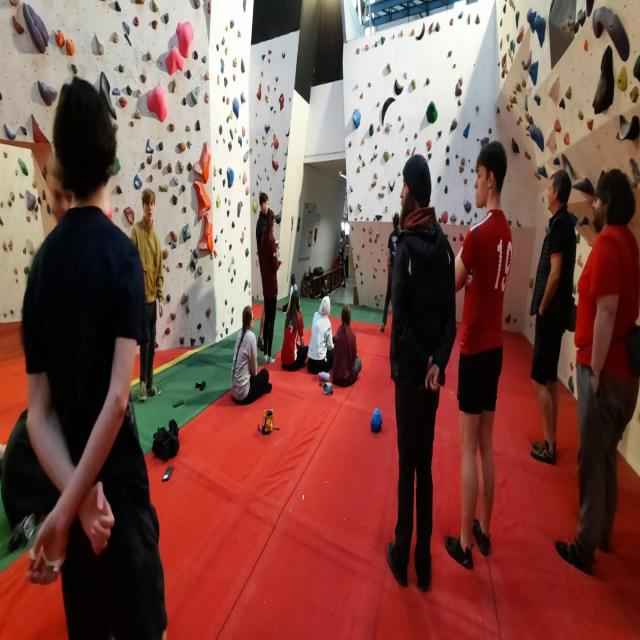Jug: (529, 120, 544, 153), (535, 13, 546, 50), (528, 59, 541, 88), (527, 7, 538, 33)
Sloper: (593, 7, 631, 65), (590, 44, 617, 118), (20, 1, 50, 59), (174, 18, 197, 70), (191, 177, 212, 228), (144, 83, 168, 125), (168, 24, 186, 78), (193, 139, 212, 185), (198, 214, 214, 259), (617, 111, 640, 142), (378, 92, 398, 125), (425, 98, 439, 126), (225, 164, 237, 194), (351, 108, 365, 130), (270, 130, 282, 153), (231, 94, 239, 124), (278, 88, 286, 116), (270, 154, 280, 176), (254, 83, 263, 100), (394, 79, 403, 94)
